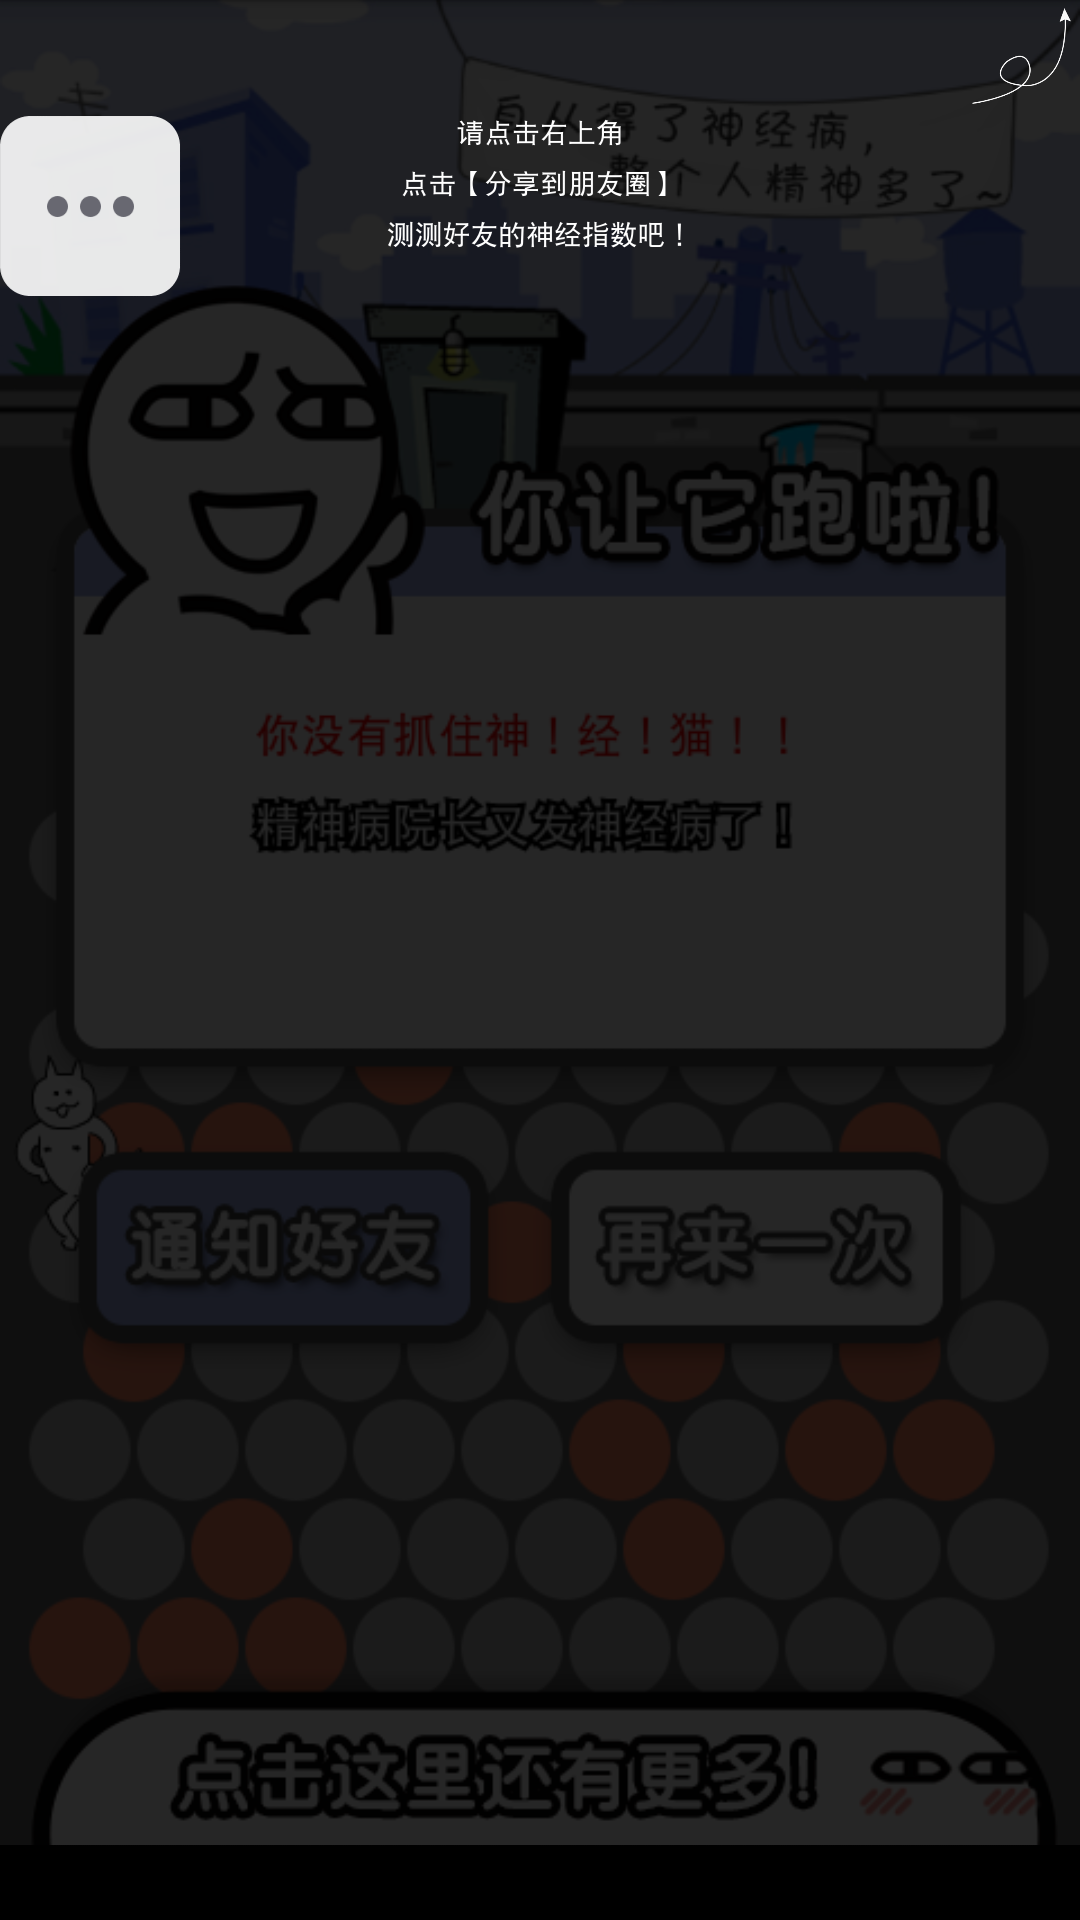textview: (349, 86, 723, 287)
